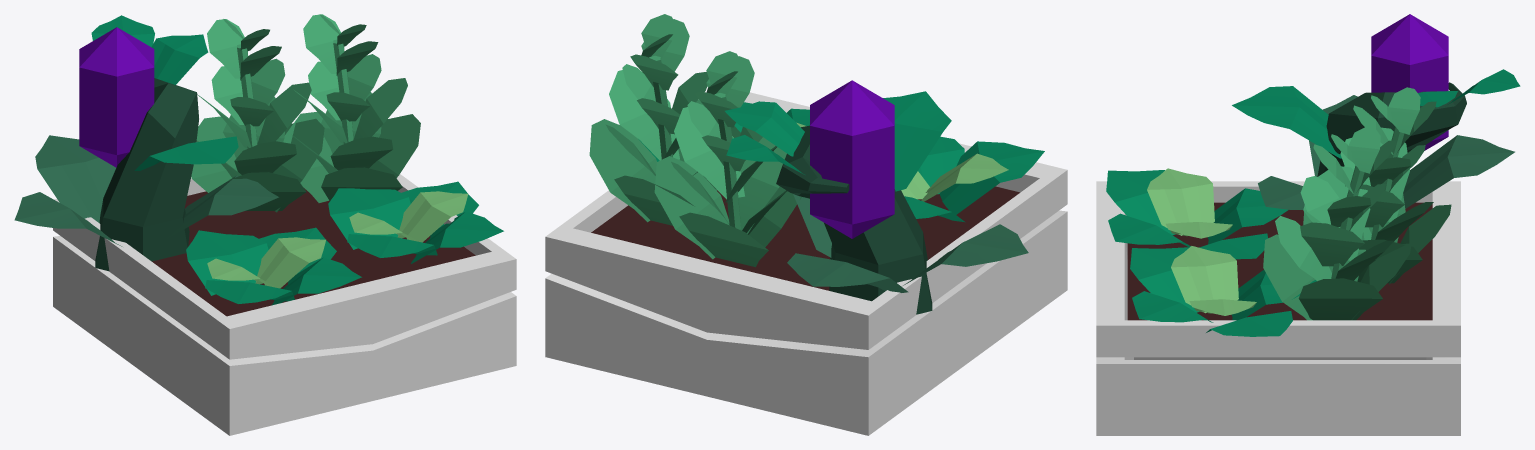
The model's file is Plant_farm_05.fbx.
The picture shows the model from 3 angles, left to right: view 1: azimuth 30°, elevation 25°; view 2: azimuth 150°, elevation 25°; view 3: azimuth 270°, elevation 25°; orthographic projection. The views are drawn at different scales.
Visible parts, largest first — view 1: polySurface1103, polySurface1102, polySurface2421, polySurface2416, polySurface2387, polySurface2406, polySurface2407, polySurface1104, polySurface2388, polySurface2389, polySurface2391, polySurface2392 (+3 smaller); view 2: polySurface1103, polySurface1102, polySurface2416, polySurface2421, polySurface2388, polySurface1104, polySurface2387, polySurface2406, polySurface2393, polySurface2389, polySurface2390, polySurface2392 (+2 smaller); view 3: polySurface1103, polySurface1102, polySurface2421, polySurface2406, polySurface2407, polySurface2416, polySurface1104, polySurface2388, polySurface2389, polySurface2387, polySurface2393, polySurface2391 (+3 smaller).
Boxes of the visible parts, x1,y1,x2,y2 form: polySurface1103: (53, 236, 516, 435); polySurface1102: (53, 174, 516, 359); polySurface2421: (283, 14, 420, 202); polySurface2416: (191, 19, 324, 212); polySurface2387: (95, 78, 198, 271); polySurface2406: (186, 227, 361, 305); polySurface2407: (328, 181, 503, 263); polySurface1104: (152, 188, 475, 316); polySurface2388: (79, 27, 154, 167); polySurface2389: (35, 135, 115, 222); polySurface2391: (164, 175, 278, 240); polySurface2392: (151, 34, 208, 84); polySurface1103: (545, 210, 1067, 435); polySurface1102: (545, 92, 1067, 349); polySurface2416: (654, 51, 801, 267); polySurface2421: (589, 14, 740, 225); polySurface2388: (810, 80, 894, 238); polySurface1104: (591, 186, 1019, 290); polySurface2387: (776, 125, 932, 314); polySurface2406: (901, 136, 1044, 222); polySurface2393: (883, 91, 951, 191); polySurface2389: (787, 253, 908, 292); polySurface2390: (903, 224, 1028, 285); polySurface2392: (725, 101, 804, 156); polySurface1103: (1096, 243, 1460, 435); polySurface1102: (1096, 181, 1460, 357); polySurface2421: (1263, 126, 1411, 320); polySurface2406: (1106, 168, 1288, 259); polySurface2407: (1130, 246, 1316, 336); polySurface2416: (1303, 87, 1451, 284); polySurface1104: (1127, 202, 1432, 320); polySurface2388: (1371, 14, 1448, 150); polySurface2389: (1403, 135, 1514, 208); polySurface2387: (1317, 82, 1466, 176); polySurface2393: (1232, 86, 1341, 158); polySurface2391: (1258, 176, 1304, 209).
Size of the model in its own units: 2.22 by 1.5 by 1.94.
